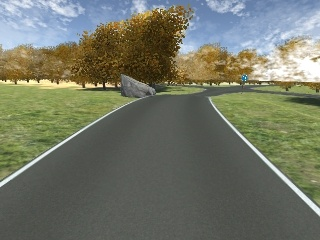Stone: (119, 73, 157, 100)
